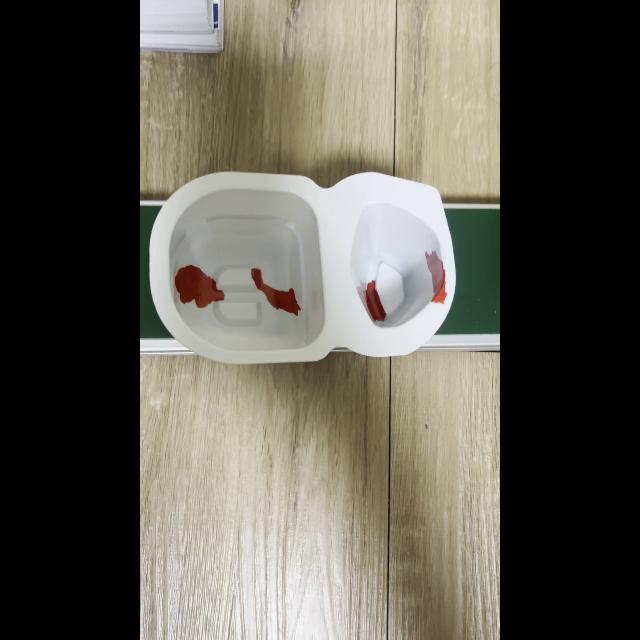dirty: (150, 171, 454, 361)
